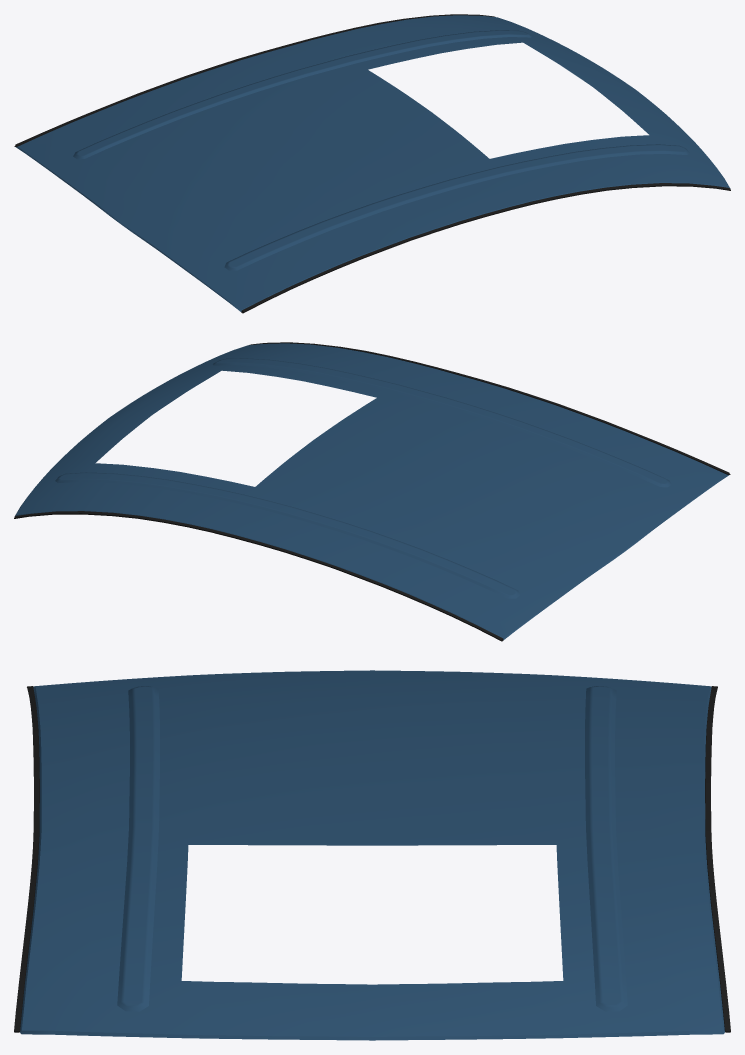
3 views of the same model, one above another, from view 1: azimuth 30°, elevation 25°; view 2: azimuth 150°, elevation 25°; view 3: azimuth 270°, elevation 25° (orthographic). The views are drawn at different scales.
Parts seen in each view (by area): view 1: Y191_13_341B_C_Y191_13_341B_C_1_DaS, Y191_13_341B_C_Y191_13_341B_C_1_DaS_E, Y191_13_341B_C_2_D_Y191_13_341B_C; view 2: Y191_13_341B_C_Y191_13_341B_C_1_DaS, Y191_13_341B_C_Y191_13_341B_C_1_DaS_E, Y191_13_341B_C_2_D_Y191_13_341B_C; view 3: Y191_13_341B_C_Y191_13_341B_C_1_DaS, Y191_13_341B_C_Y191_13_341B_C_1_DaS_E, Y191_13_341B_C_2_D_Y191_13_341B_C.
Part boxes in pixels (x1=…): Y191_13_341B_C_Y191_13_341B_C_1_DaS: x1=18, y1=15, x2=728, y2=309; Y191_13_341B_C_Y191_13_341B_C_1_DaS_E: x1=16, y1=34, x2=730, y2=311; Y191_13_341B_C_2_D_Y191_13_341B_C: x1=14, y1=14, x2=730, y2=313; Y191_13_341B_C_Y191_13_341B_C_1_DaS: x1=16, y1=343, x2=726, y2=637; Y191_13_341B_C_Y191_13_341B_C_1_DaS_E: x1=14, y1=362, x2=728, y2=639; Y191_13_341B_C_2_D_Y191_13_341B_C: x1=14, y1=342, x2=730, y2=641; Y191_13_341B_C_Y191_13_341B_C_1_DaS: x1=22, y1=670, x2=722, y2=1036; Y191_13_341B_C_Y191_13_341B_C_1_DaS_E: x1=20, y1=686, x2=724, y2=1040; Y191_13_341B_C_2_D_Y191_13_341B_C: x1=14, y1=686, x2=730, y2=1032.
Size of the model in its own units: 144 by 11.6 by 115.
